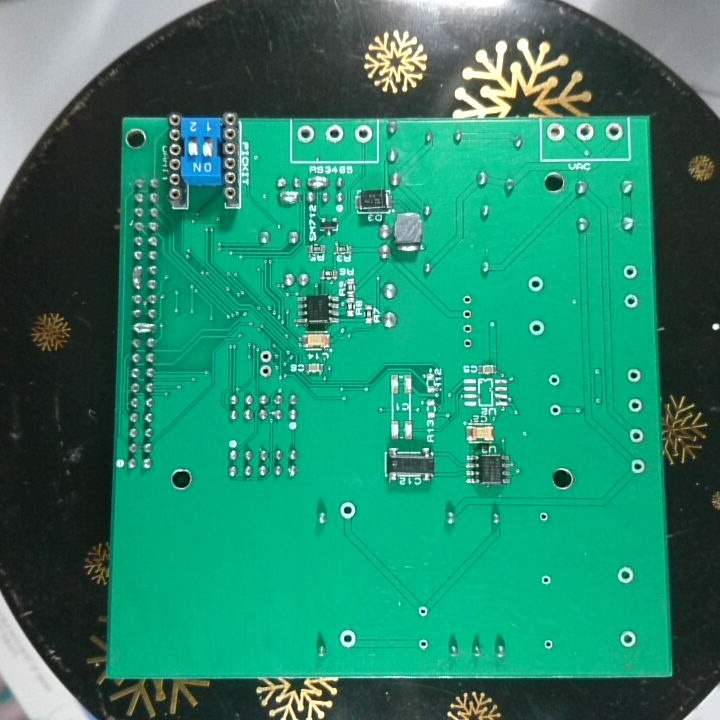F: (614, 562, 636, 589), (336, 498, 359, 523), (294, 121, 316, 146), (337, 623, 358, 649), (323, 121, 344, 145), (545, 121, 566, 145), (604, 120, 625, 144), (573, 120, 596, 141), (617, 627, 637, 651), (525, 272, 545, 296), (526, 317, 548, 338), (351, 123, 372, 144), (625, 425, 647, 445), (628, 454, 646, 478), (622, 291, 642, 312), (619, 262, 641, 280), (625, 365, 643, 387), (625, 396, 645, 415), (545, 369, 562, 391), (256, 361, 274, 380), (414, 634, 430, 655), (547, 399, 563, 419), (414, 600, 430, 620), (536, 507, 551, 528), (257, 345, 274, 363), (540, 635, 556, 652), (460, 335, 476, 352), (459, 320, 476, 336), (459, 307, 477, 322), (459, 291, 475, 307), (538, 572, 553, 589)
P: (305, 171, 331, 190), (130, 318, 156, 336), (275, 187, 300, 205), (129, 262, 143, 292)
